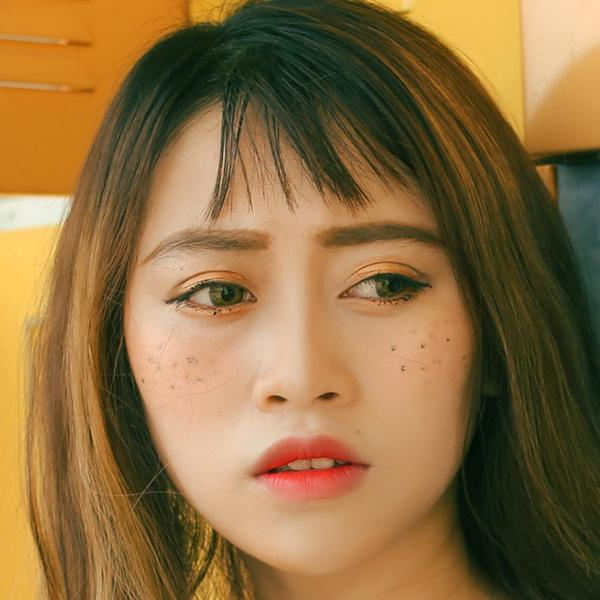Eyes: (325, 249, 437, 321), (156, 260, 265, 327)
